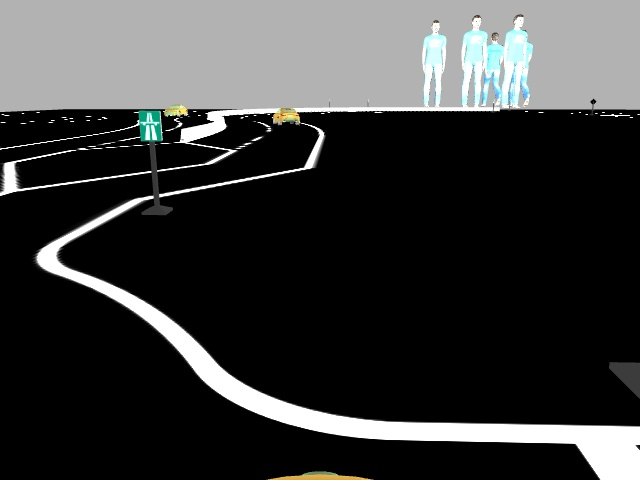HighwayEntrance: (134, 109, 166, 143)
